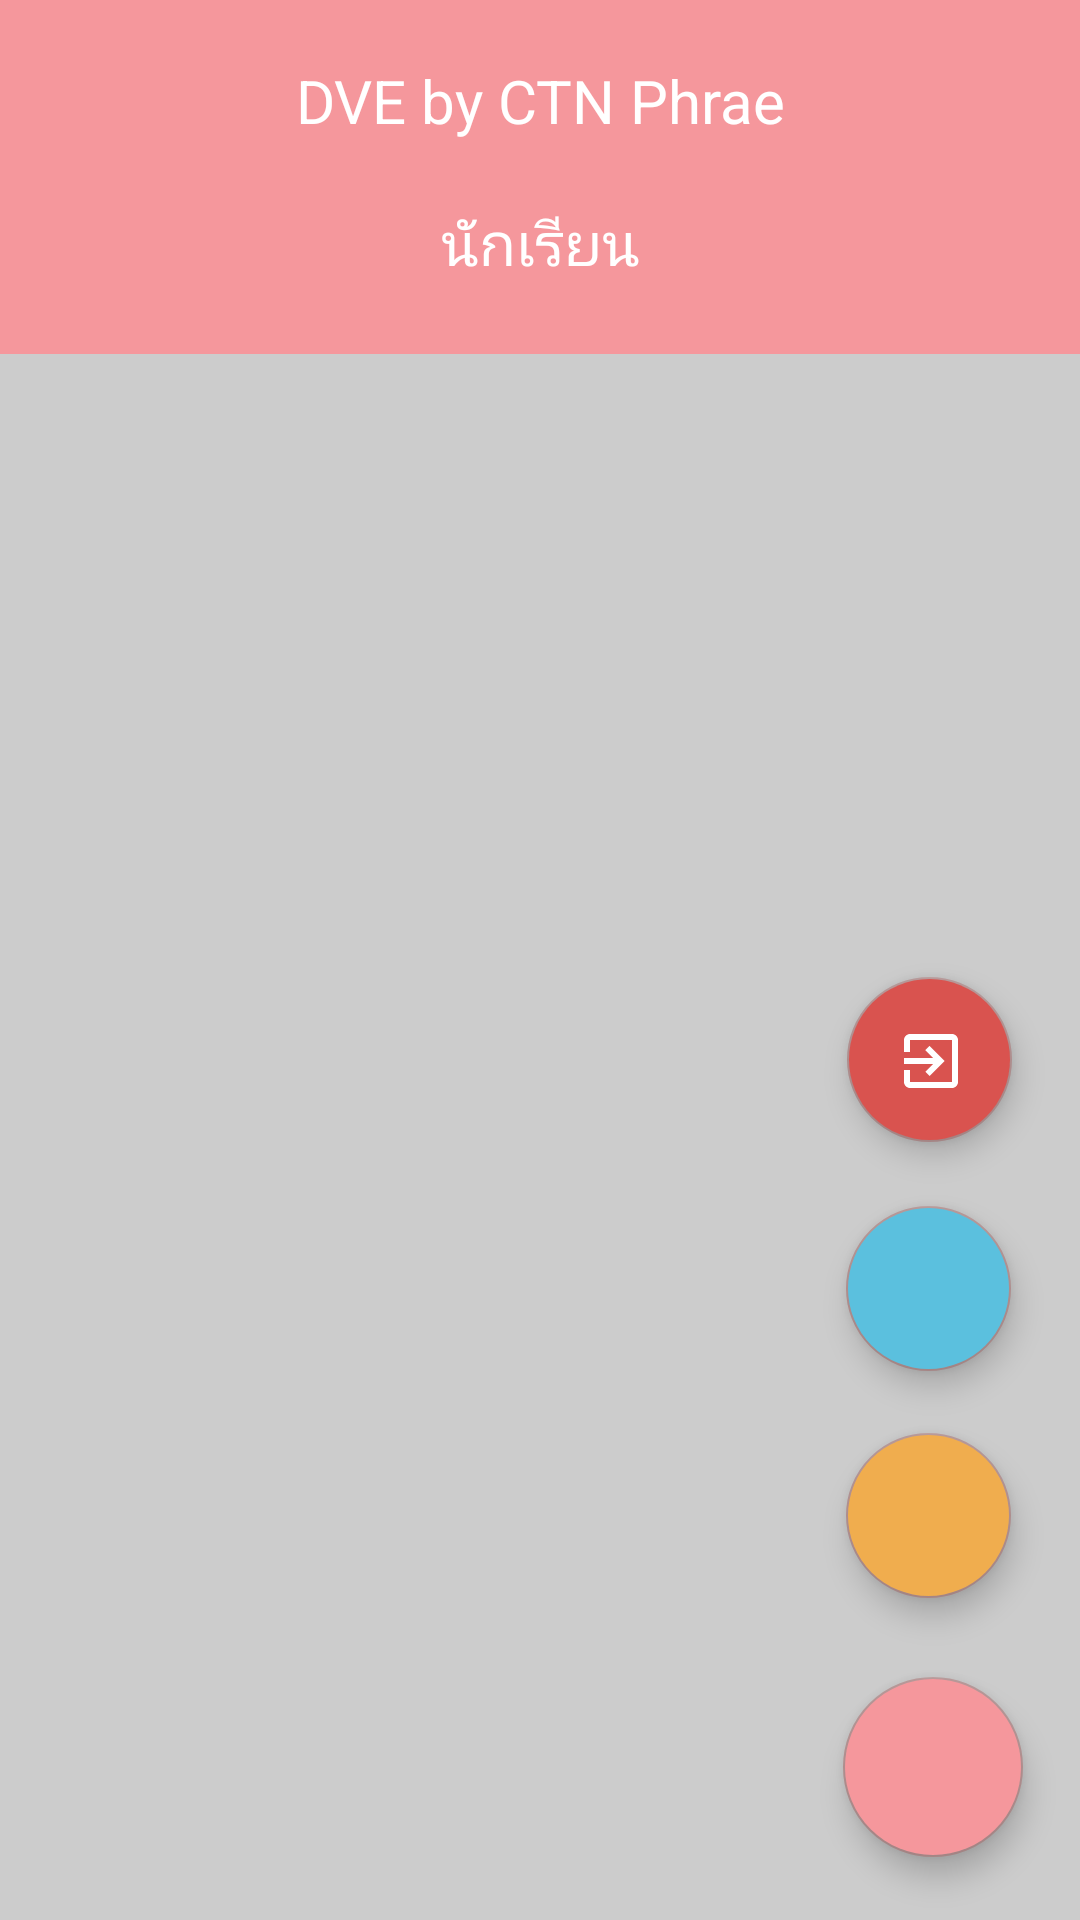

Icon bounding boxes for this 1080px x 1920px phone screenshot, format (x1, y1, x2, y2):
out: (847, 977, 1012, 1142)
